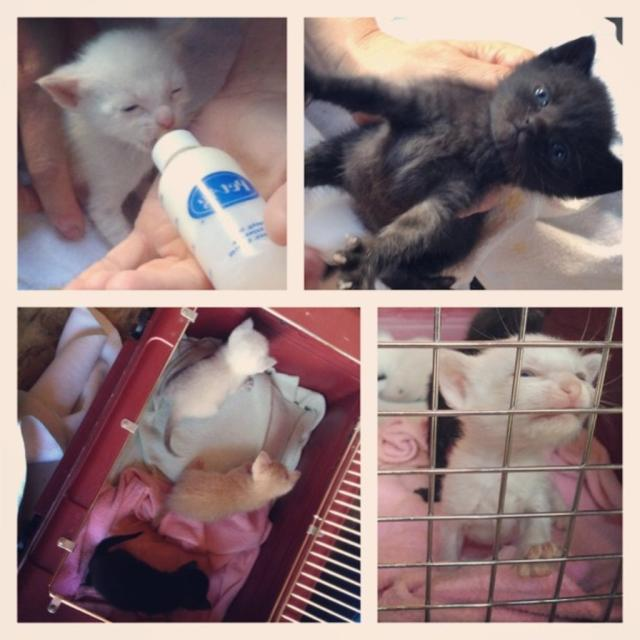Cat: (299, 20, 628, 279), (427, 314, 614, 584), (34, 20, 254, 246), (160, 321, 276, 465), (152, 448, 302, 526), (77, 535, 212, 616)
